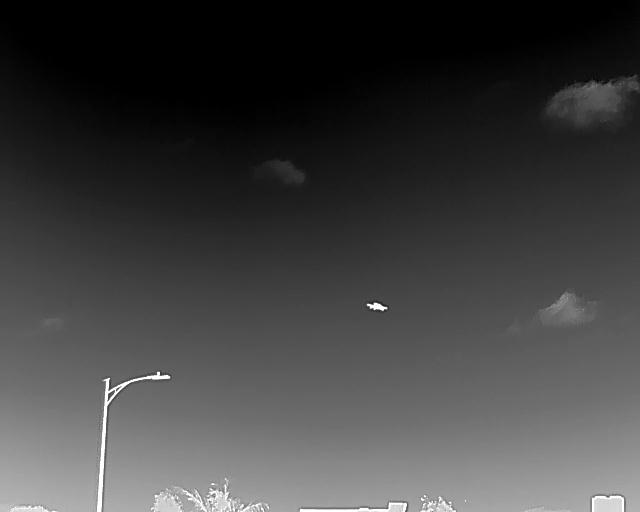fpv-drone: (366, 302, 387, 311)
